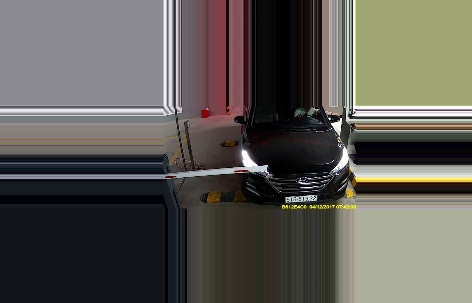plate: (282, 191, 319, 203)
